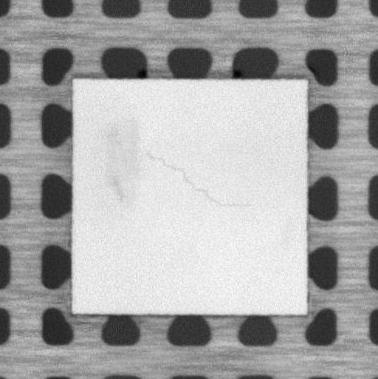DIE_CRACK: (149, 151, 253, 209)
